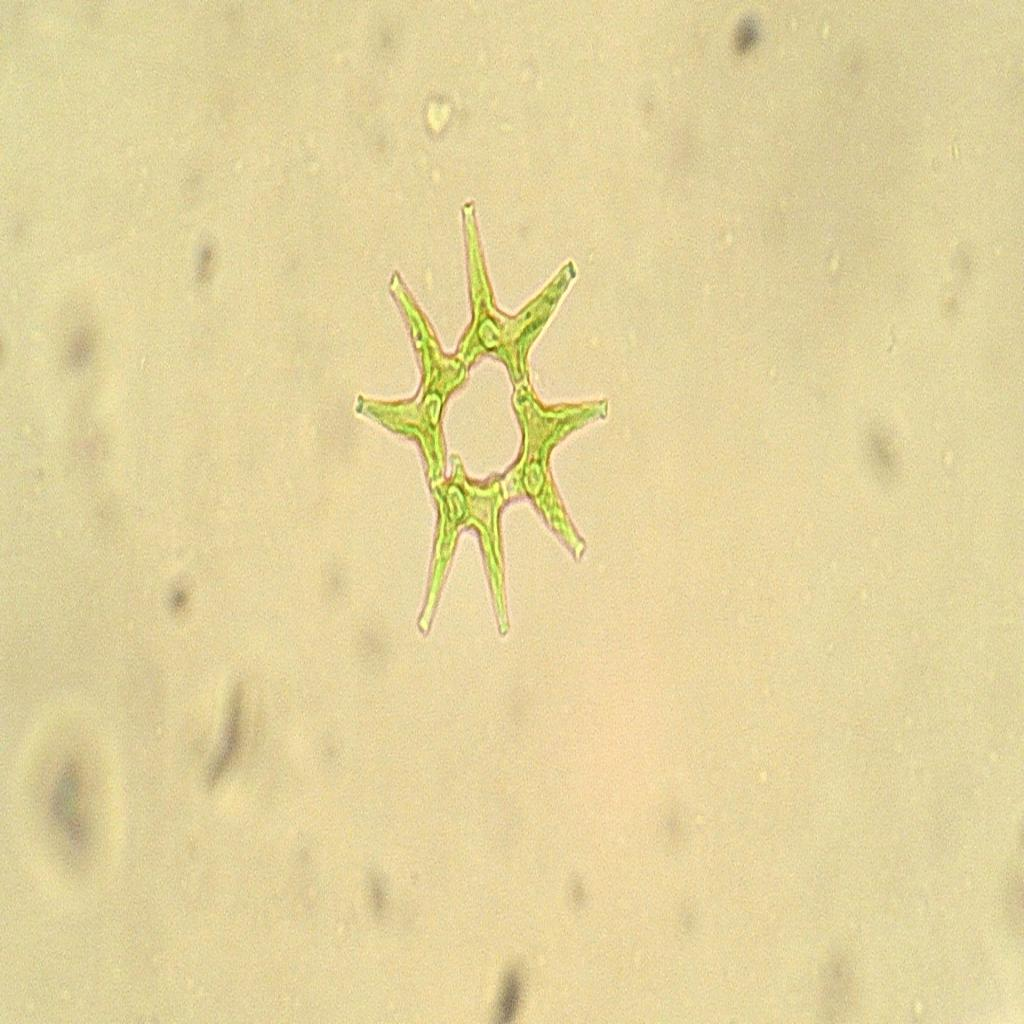Pediastrum_CF: (349, 190, 624, 668)
